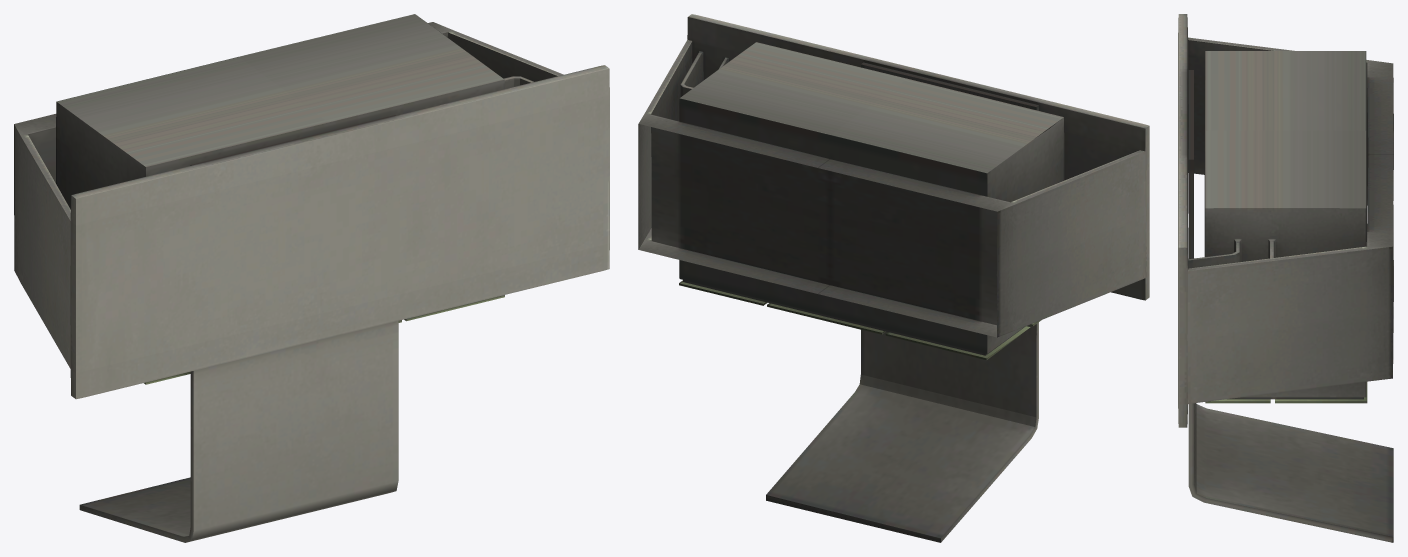
Rendered from nt_2020_modern_desk_LOD1.obj.
3 views of the same model, side by side, from view 1: azimuth 30°, elevation 25°; view 2: azimuth 150°, elevation 25°; view 3: azimuth 270°, elevation 25° (orthographic). The views are drawn at different scales.
Visible parts, largest first — view 1: mtl_nt_2020_modern_desk; view 2: mtl_nt_2020_modern_desk; view 3: mtl_nt_2020_modern_desk.
Part boxes in pixels (left/top/right/bottom): mtl_nt_2020_modern_desk: left=14, top=14, right=609, bottom=542; mtl_nt_2020_modern_desk: left=638, top=14, right=1149, bottom=542; mtl_nt_2020_modern_desk: left=1178, top=14, right=1393, bottom=542.
Bounding box in the file's own units: 211 × 162 × 82.35.
